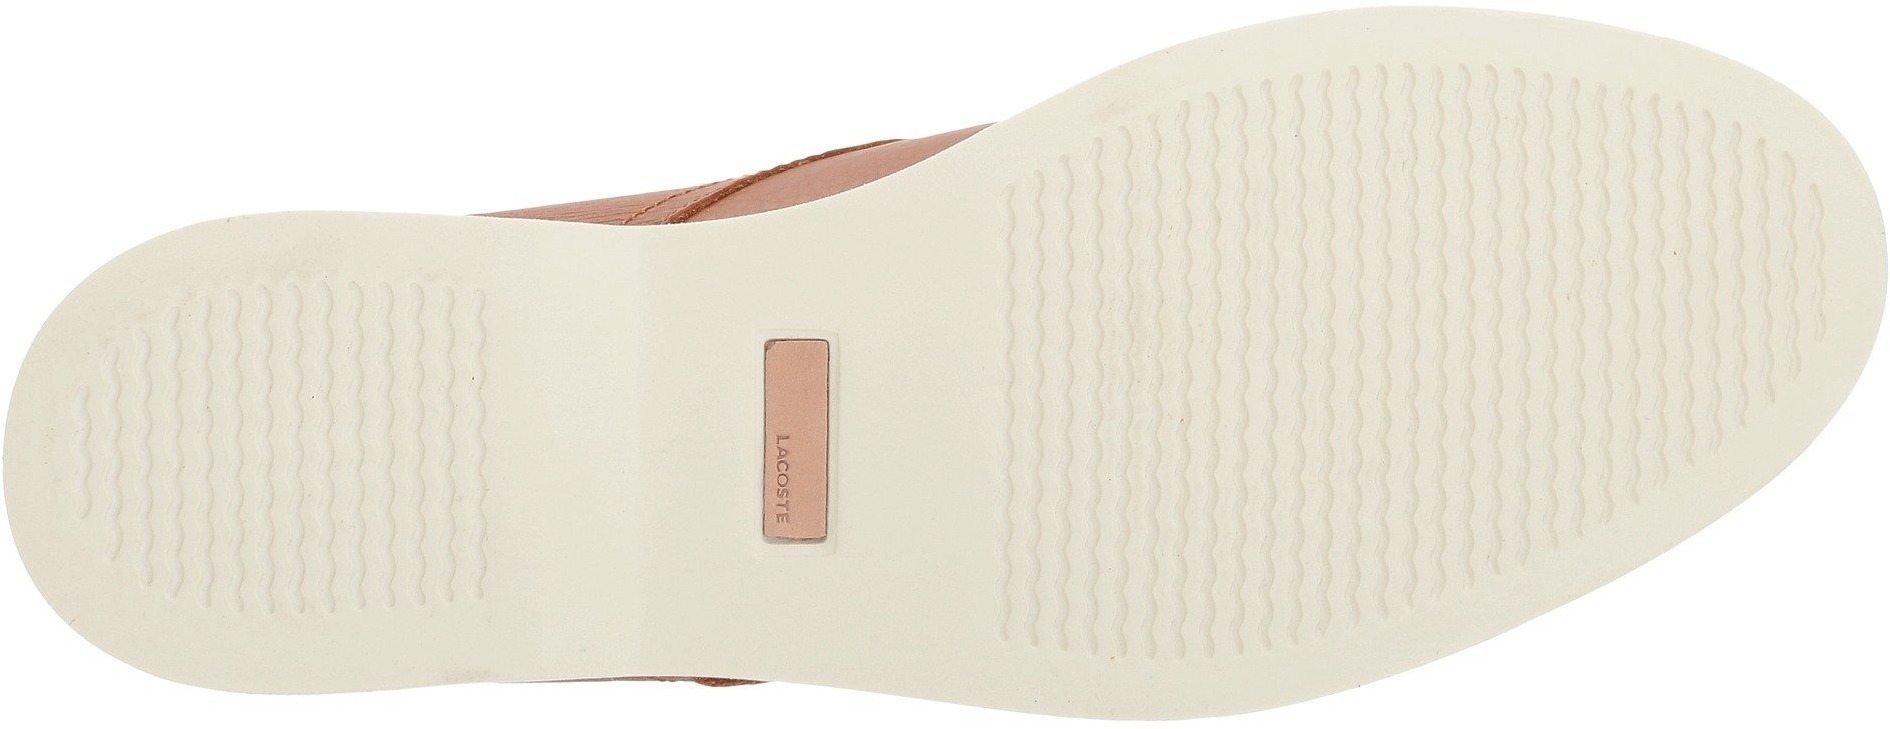chevron: (1301, 120, 1620, 429), (1012, 188, 1310, 510), (222, 316, 479, 571), (1631, 174, 1819, 377), (1317, 439, 1489, 596), (78, 394, 222, 539)
circle: (694, 327, 925, 549)
other: (493, 341, 694, 537)
quad: (694, 327, 925, 549)
text: (694, 327, 925, 549), (736, 433, 830, 535)
